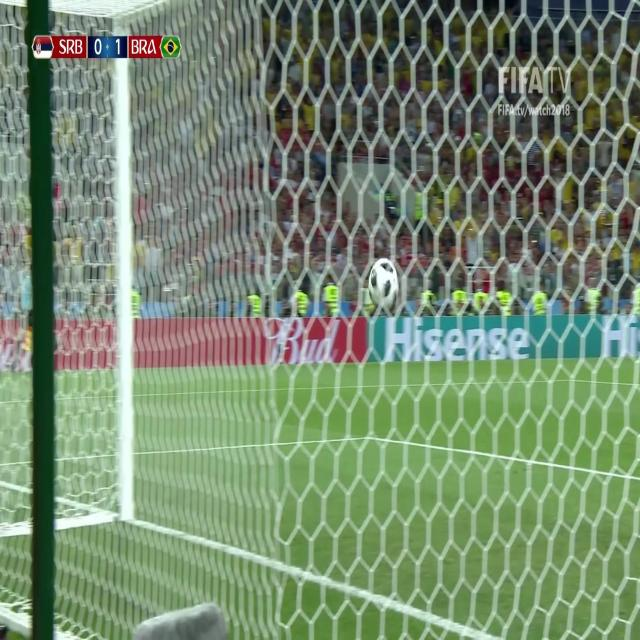ball: (364, 251, 402, 315)
